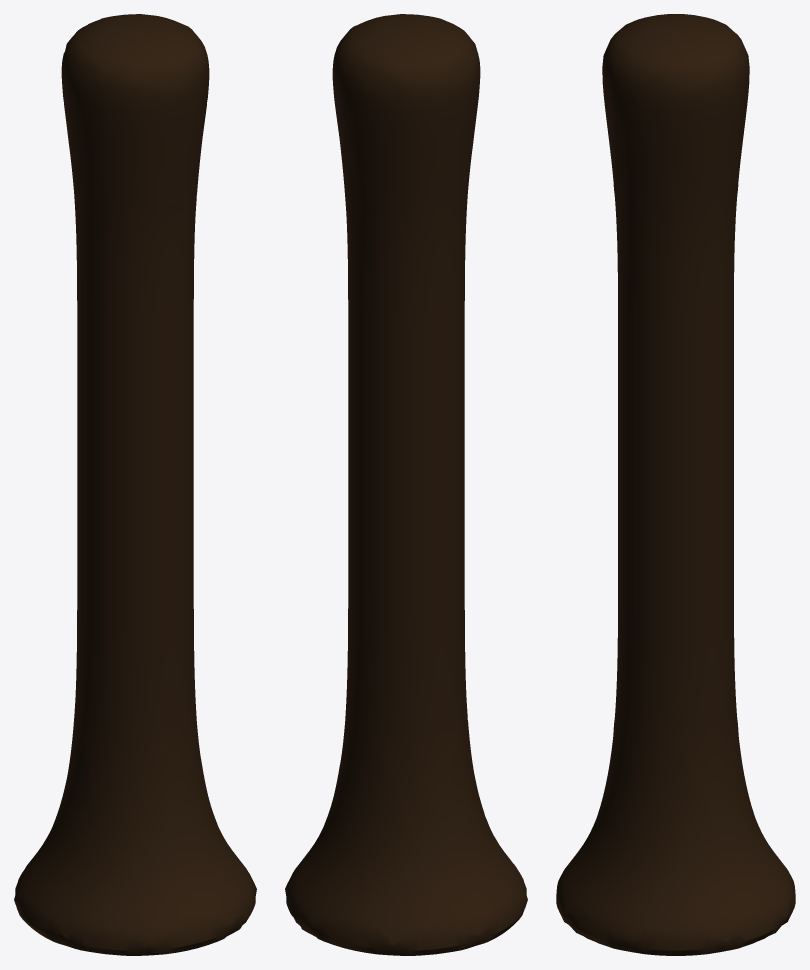
The model's file is BigStem2.fbx.
The picture shows the model from 3 angles, left to right: view 1: azimuth 30°, elevation 25°; view 2: azimuth 150°, elevation 25°; view 3: azimuth 270°, elevation 25°; orthographic projection.
Parts seen in each view (by area): view 1: BigStem; view 2: BigStem; view 3: BigStem.
Part boxes in pixels (box(x1,y1,x2,y2)): BigStem: box(14, 14, 256, 955); BigStem: box(285, 14, 527, 955); BigStem: box(556, 14, 795, 955).
Bounding box in the file's own units: 406 × 1667 × 406.
